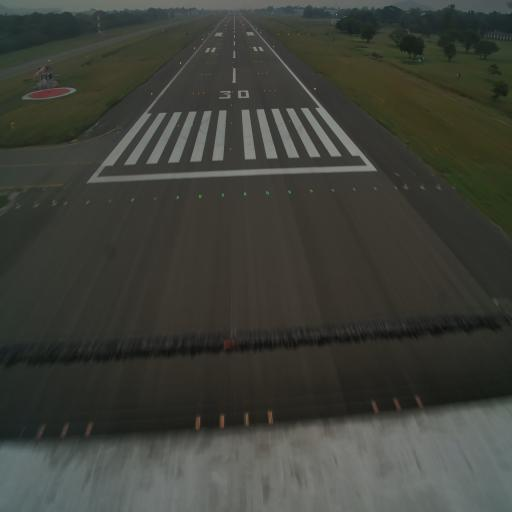off: (108, 194, 112, 207), (153, 194, 158, 204)
on: (409, 387, 426, 414), (58, 420, 73, 442), (391, 396, 406, 418), (239, 403, 250, 432), (35, 420, 48, 443), (216, 410, 228, 434), (191, 414, 205, 434), (83, 417, 95, 440), (264, 404, 275, 428), (366, 401, 382, 417), (14, 195, 24, 212), (433, 180, 442, 192), (403, 179, 410, 194), (86, 197, 94, 210), (240, 186, 248, 199), (286, 186, 294, 199), (49, 198, 58, 209), (32, 198, 40, 210), (307, 183, 314, 196), (220, 188, 227, 200), (264, 188, 271, 200), (130, 193, 136, 205), (330, 185, 336, 196), (392, 180, 398, 191), (418, 180, 424, 191), (174, 194, 180, 204), (198, 191, 203, 202), (372, 182, 377, 192), (351, 185, 358, 192), (63, 199, 67, 210)
